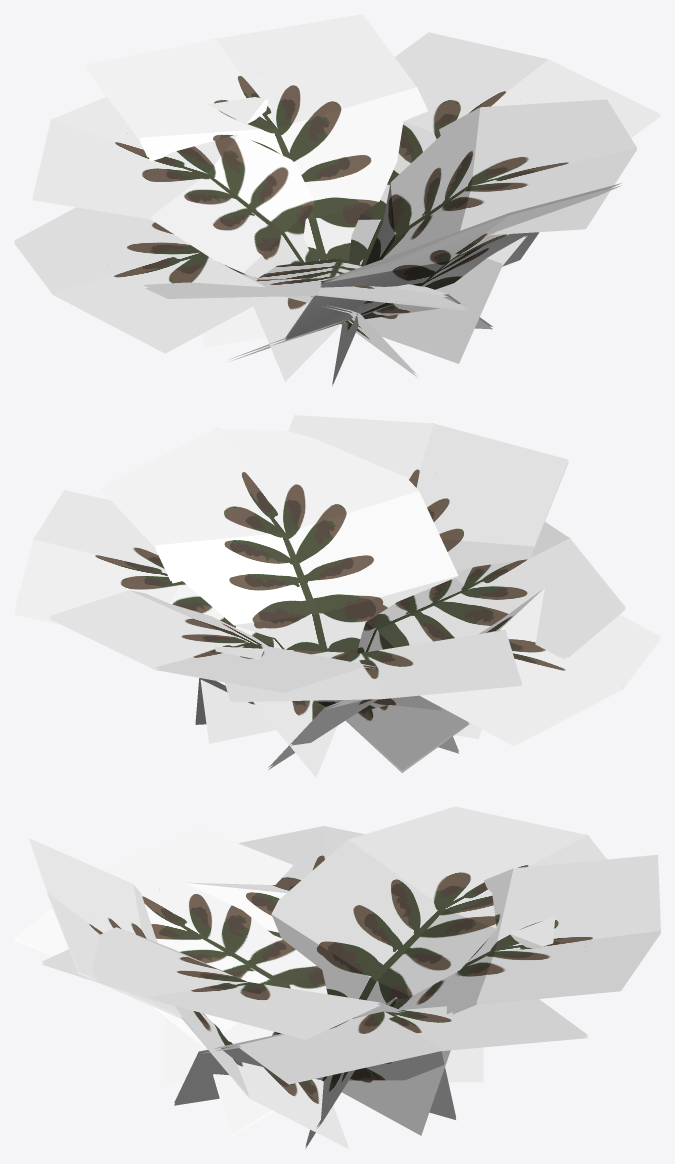
The model's file is Ferns04.fbx.
The picture shows the model from 3 angles, top to bottom: view 1: azimuth 30°, elevation 25°; view 2: azimuth 150°, elevation 25°; view 3: azimuth 270°, elevation 25°; orthographic projection. The views are drawn at different scales.
Parts seen in each view (by area): view 1: Fern04; view 2: Fern04; view 3: Fern04.
Part boxes in pixels (x1,y1,x2,y2): Fern04: [14, 14, 660, 385]; Fern04: [14, 415, 660, 777]; Fern04: [14, 806, 660, 1148].
Size of the model in its own units: 1.73 by 0.5495 by 1.55.
1 material, 1 textured.
